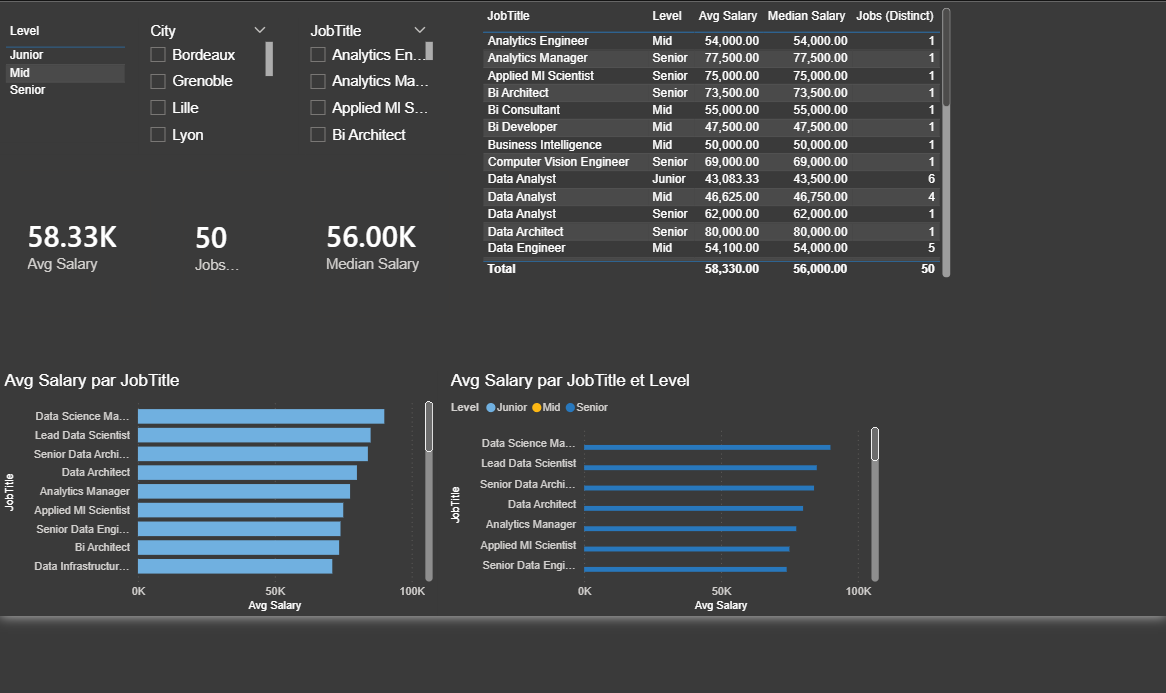

The dashboard page shown, as its layout file describes it:
{"tool":"powerbi","page":{"name":"02-Salaires & Postes","canvas":[1280,720],"ordinal":1},"visuals":[{"type":"tableEx","fields":{"Values":["DimExperience.Level"]},"box":[0,62.9,151.9,136.2],"z":0},{"type":"slicer","fields":{"Values":["DimLocation.City"]},"box":[151.9,62.9,151.9,150.1],"z":1},{"type":"slicer","fields":{"Values":["JobsData.JobTitle"]},"box":[328.2,62.9,151.9,150.1],"z":2},{"type":"cardVisual","fields":{"Data":["Measures (2).Avg Salary"]},"box":[0,213,183.3,195.5],"z":3},{"type":"cardVisual","fields":{"Data":["Measures (2).Median Salary"]},"box":[328.2,213,183.3,195.5],"z":4},{"type":"cardVisual","fields":{"Data":["Measures (2).Jobs (Distinct)"]},"box":[183.9,212.7,150.9,196.2],"z":5},{"type":"barChart","fields":{"Category":["JobsData.JobTitle"],"Y":["Measures (2).Avg Salary"]},"box":[0,450.4,480.1,268.9],"z":6},{"type":"clusteredBarChart","fields":{"Category":["JobsData.JobTitle"],"Series":["DimExperience.Level"],"Y":["Measures (2).Avg Salary"]},"box":[490,450,480,269],"z":7},{"type":"tableEx","fields":{"Values":["JobsData.JobTitle","DimExperience.Level","Measures (2).Avg Salary","Measures (2).Median Salary","Measures (2).Jobs (Distinct)"]},"box":[524.2,46.7,524.2,306],"z":8}]}

Visuals, with their boxes on the page's 1280x720 design canvas (x1, y1, x2, y2). These are canvas units, not pixel positions in the 1166x693 screenshot, which may show the page scaled, cropped or inside an application window:
tableEx - DimExperience.Level: Rect(0, 63, 152, 199)
slicer - DimLocation.City: Rect(152, 63, 304, 213)
slicer - JobsData.JobTitle: Rect(328, 63, 480, 213)
cardVisual - Measures (2).Avg Salary: Rect(0, 213, 183, 408)
cardVisual - Measures (2).Median Salary: Rect(328, 213, 512, 408)
cardVisual - Measures (2).Jobs (Distinct): Rect(184, 213, 335, 409)
barChart - JobsData.JobTitle x Measures (2).Avg Salary: Rect(0, 450, 480, 719)
clusteredBarChart - JobsData.JobTitle x DimExperience.Level: Rect(490, 450, 970, 719)
tableEx - JobsData.JobTitle x DimExperience.Level: Rect(524, 47, 1048, 353)
